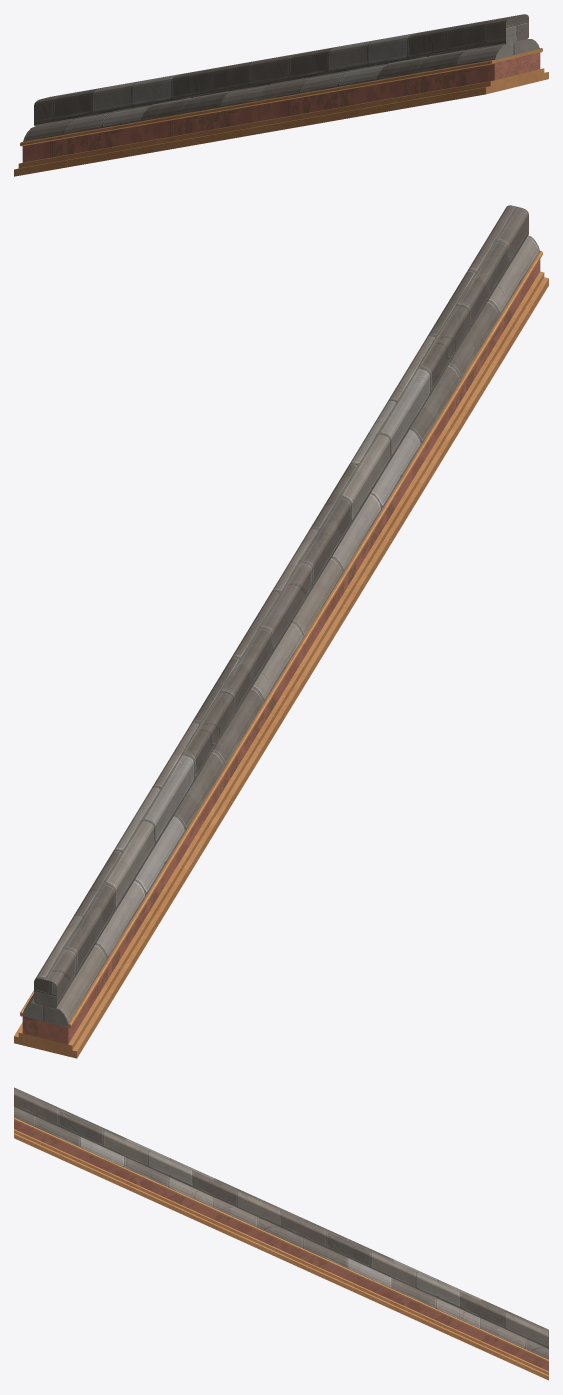
The model's file is rail_standard_angle_complete.fbx.
The picture shows the model from 3 angles, top to bottom: view 1: azimuth 30°, elevation 25°; view 2: azimuth 150°, elevation 25°; view 3: azimuth 270°, elevation 25°; orthographic projection. The views are drawn at different scales.
Parts seen in each view (by area): view 1: rail_angle_top, rail_angle_trim, rail_angle_mid, rail_angle_bot, rail_angle_bars; view 2: rail_angle_top, rail_angle_mid, rail_angle_bot, rail_angle_trim, rail_angle_bars; view 3: rail_angle_top, rail_angle_mid, rail_angle_bot, rail_angle_trim, rail_angle_bars.
Boxes of the visible parts, x1,y1,x2,y2 form: rail_angle_top: [34, 14, 528, 126]; rail_angle_trim: [22, 52, 540, 162]; rail_angle_mid: [23, 39, 539, 141]; rail_angle_bot: [14, 68, 548, 176]; rail_angle_bars: [20, 48, 542, 146]; rail_angle_top: [34, 205, 528, 1007]; rail_angle_mid: [22, 235, 539, 1027]; rail_angle_bot: [14, 271, 548, 1058]; rail_angle_trim: [22, 259, 540, 1044]; rail_angle_bars: [20, 251, 542, 1028]; rail_angle_top: [14, 1087, 548, 1348]; rail_angle_mid: [14, 1107, 548, 1359]; rail_angle_bot: [14, 1129, 548, 1380]; rail_angle_trim: [14, 1120, 548, 1371]; rail_angle_bars: [14, 1117, 548, 1362].
Bounding box in the file's own units: 0.7712 × 5.83 × 10.
